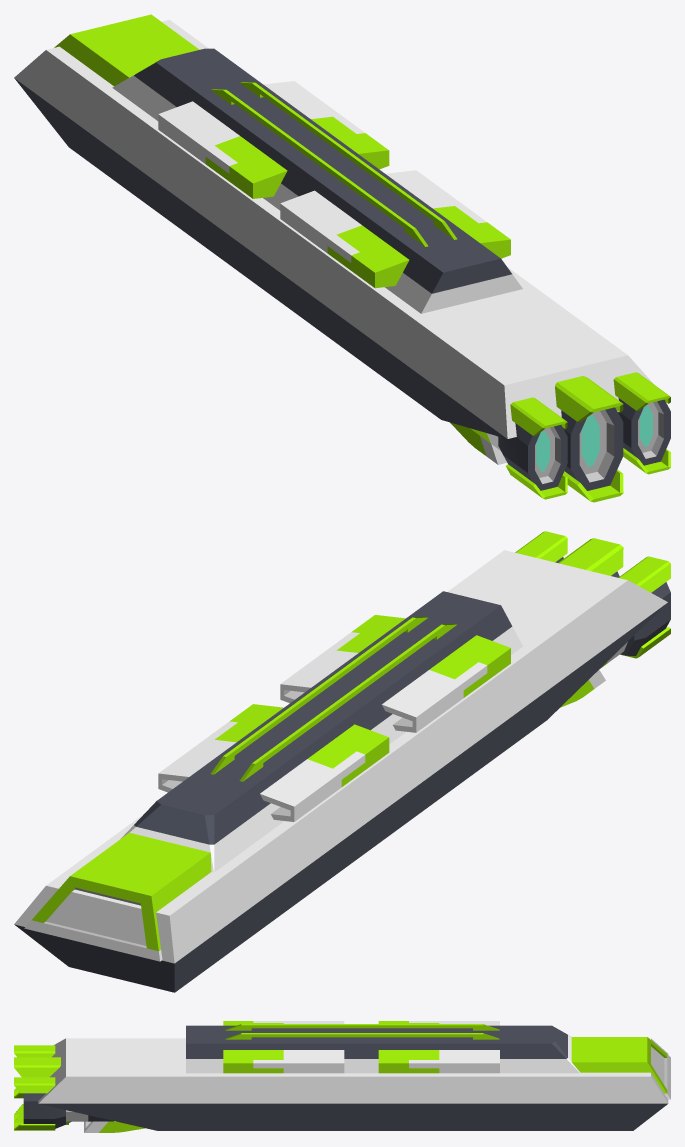
Rendered from CruiserLime2.model.obj.
3 views of the same model, one above another, from view 1: azimuth 30°, elevation 25°; view 2: azimuth 150°, elevation 25°; view 3: azimuth 270°, elevation 25° (orthographic). The views are drawn at different scales.
Parts seen in each view (by area): view 1: landing_float%_17, ship_cargoBody_31, engine_high_22, engine_side_1, engine_side_2, engine_intake_30, engine_high_20, engine_high_21, detail_roofRails%_7, engine_side_6, engine_side_0, ship_cargoFront_32 (+1 smaller); view 2: landing_float%_17, ship_cargoBody_31, engine_intake_30, engine_side_1, engine_side_2, ship_cargoFront_32, detail_roofRails%_7, engine_side_6, engine_side_0, engine_high_20, engine_high_22, engine_high_21; view 3: landing_float%_17, ship_cargoBody_31, engine_intake_30, engine_side_6, engine_side_0, detail_roofRails%_7, ship_cargoFront_32, engine_high_21, engine_high_22, engine_high_20, engine_intakeArrow_0, engine_side_2 (+2 smaller).
Boxes of the visible parts, x1,y1,x2,y2 form: landing_float%_17: (14,19,653,438); ship_cargoBody_31: (152,61,522,313); engine_high_22: (555,376,623,502); engine_side_1: (158,101,287,198); engine_side_2: (280,190,409,288); engine_intake_30: (54,14,199,86); engine_high_20: (498,397,567,499); engine_high_21: (613,372,670,474); detail_roofRails%_7: (211,82,457,246); engine_side_6: (263,81,389,169); engine_side_0: (385,170,510,258); ship_cargoFront_32: (112,48,231,116); landing_float%_17: (14,550,667,992); ship_cargoBody_31: (175,591,522,843); engine_intake_30: (24,832,211,961); engine_side_1: (260,724,389,821); engine_side_2: (382,635,510,732); ship_cargoFront_32: (121,788,253,872); detail_roofRails%_7: (210,616,457,781); engine_side_6: (158,704,283,792); engine_side_0: (280,615,405,703); engine_high_20: (618,556,670,658); engine_high_22: (558,538,623,577); engine_high_21: (515,531,567,562); landing_float%_17: (38,1038,668,1130); ship_cargoBody_31: (186,1025,529,1073); engine_intake_30: (571,1037,670,1099); engine_side_6: (378,1050,499,1073); engine_side_0: (223,1050,344,1073); detail_roofRails%_7: (225,1024,499,1039); ship_cargoFront_32: (529,1025,580,1073); engine_high_21: (14,1077,65,1130); engine_high_22: (14,1057,71,1124); engine_high_20: (14,1045,55,1098); engine_intakeArrow_0: (84,1121,144,1132); engine_side_2: (223,1021,344,1025).
Size of the model in its own units: 6.84 by 5.85 by 38.
